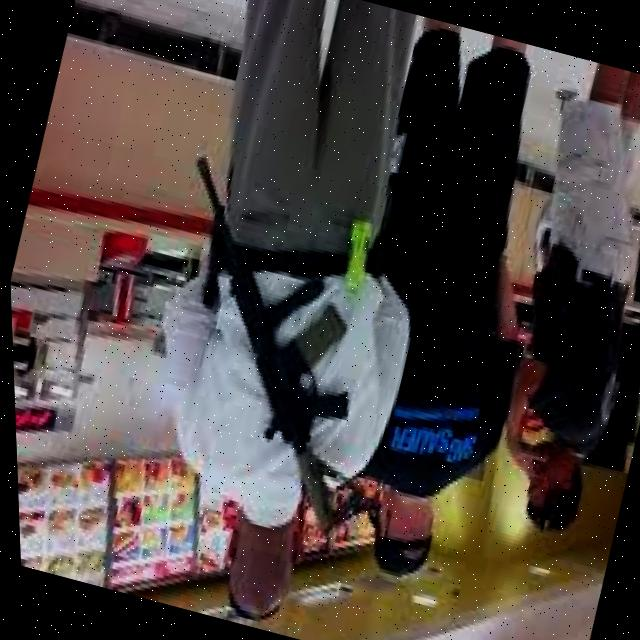firearm: (109, 158, 434, 540)
